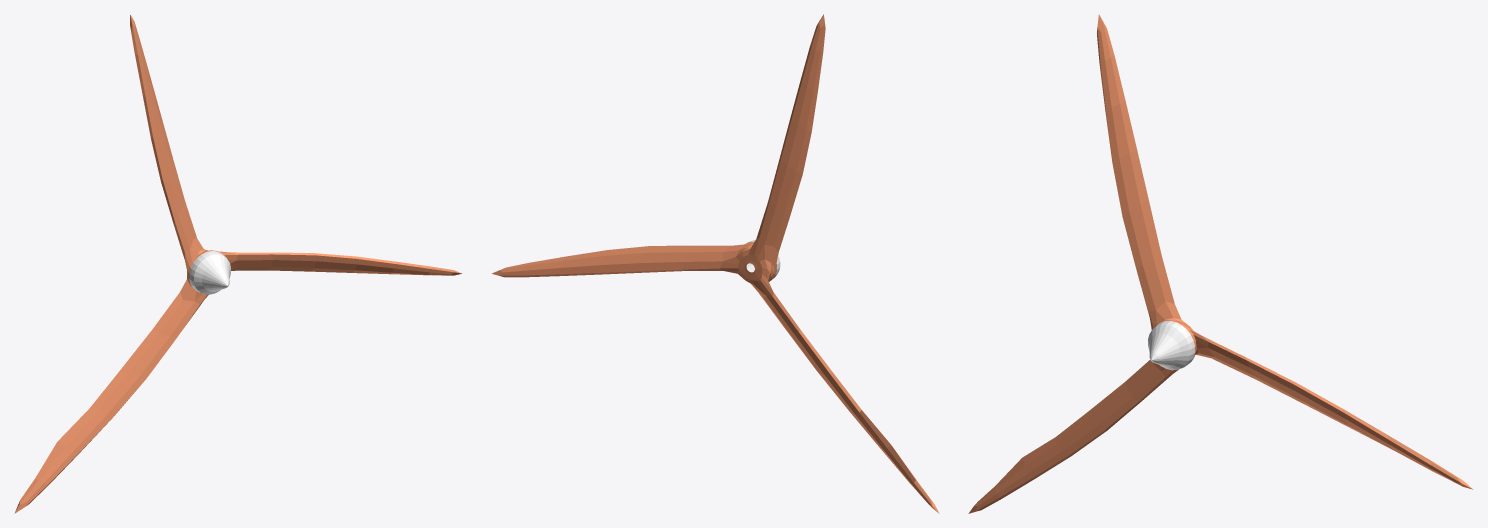
The model's file is 1-Orange-WindTurbine-propeller.fbx.
The picture shows the model from 3 angles, left to right: view 1: azimuth 30°, elevation 25°; view 2: azimuth 150°, elevation 25°; view 3: azimuth 330°, elevation 25°; orthographic projection. The views are drawn at different scales.
Visible parts, largest first — view 1: Cube.004; view 2: Cube.004; view 3: Cube.004.
Boxes of the visible parts, x1,y1,x2,y2 form: Cube.004: (14, 15, 461, 513); Cube.004: (492, 14, 939, 513); Cube.004: (968, 14, 1472, 513).
Bounding box in the file's own units: 441 × 443 × 47.75.
